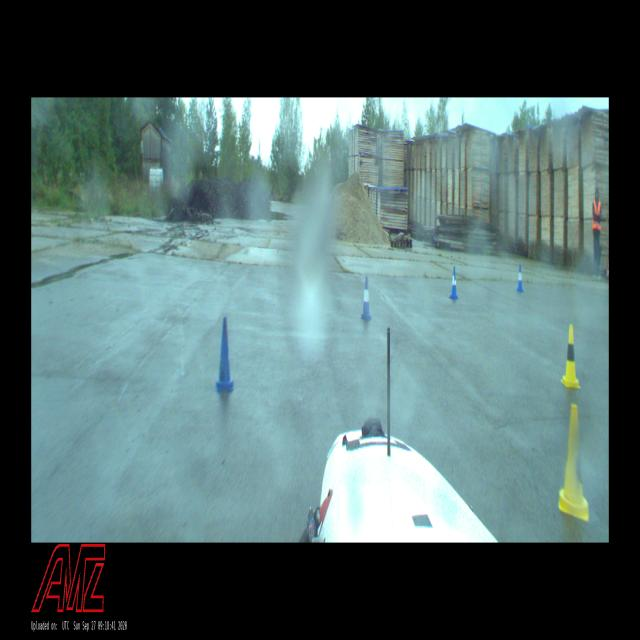blue_cone: (216, 317, 234, 393), (360, 277, 372, 321), (448, 266, 458, 300), (516, 263, 523, 293)
yellow_cone: (558, 404, 590, 523), (560, 323, 581, 390)
